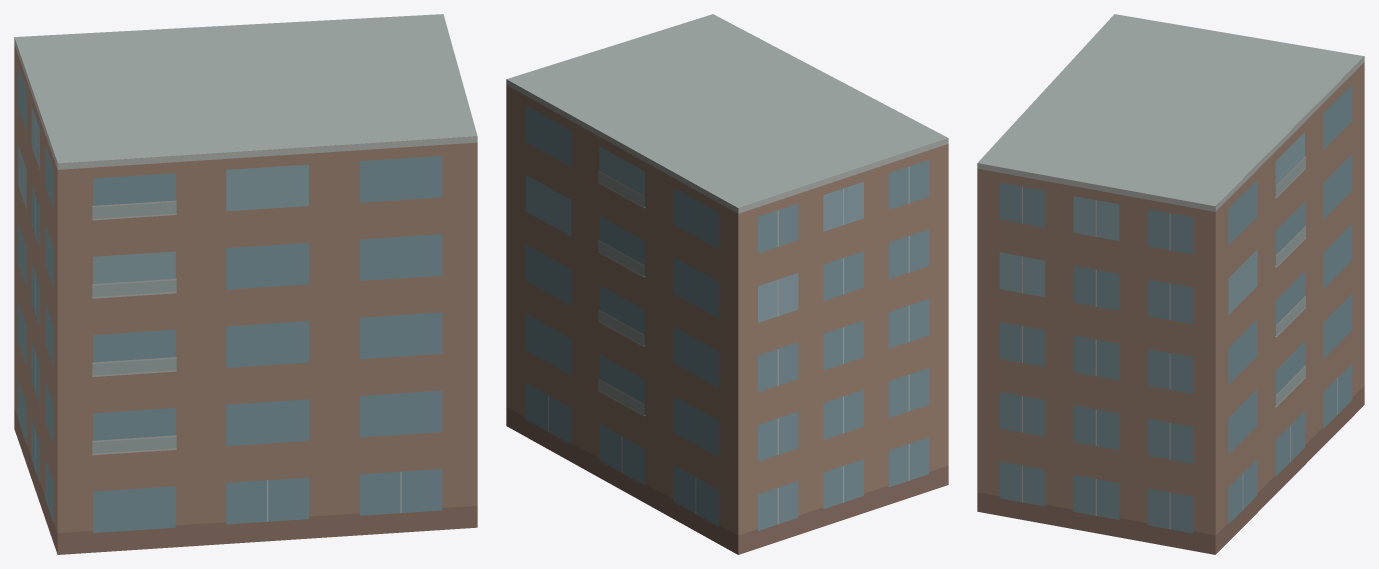
File: survey-upis-32750516.glb
3 renders of one model, left to right at view 1: azimuth 30°, elevation 25°; view 2: azimuth 150°, elevation 25°; view 3: azimuth 270°, elevation 25°, orthographic. The views are drawn at different scales.
Parts seen in each view (by area): view 1: survey-upis-32750516.tmp; view 2: survey-upis-32750516.tmp; view 3: survey-upis-32750516.tmp.
Boxes of the visible parts, <box> form: survey-upis-32750516.tmp: <box>14,14,477,554</box>; survey-upis-32750516.tmp: <box>506,14,948,554</box>; survey-upis-32750516.tmp: <box>977,14,1364,554</box>.
Bounding box in the file's own units: 17.68 × 14.94 × 15.05.
